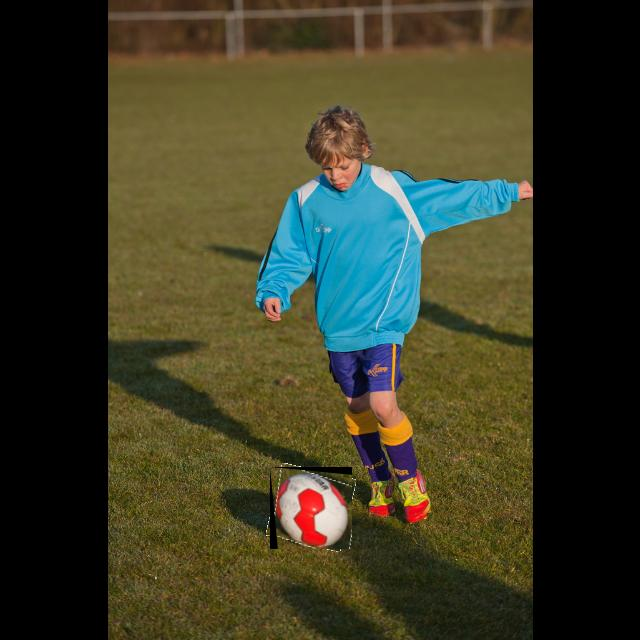Football: (270, 467, 352, 549)
